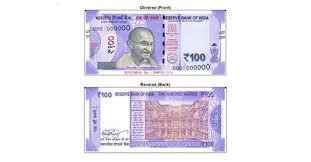hundred: (97, 19, 210, 67)
